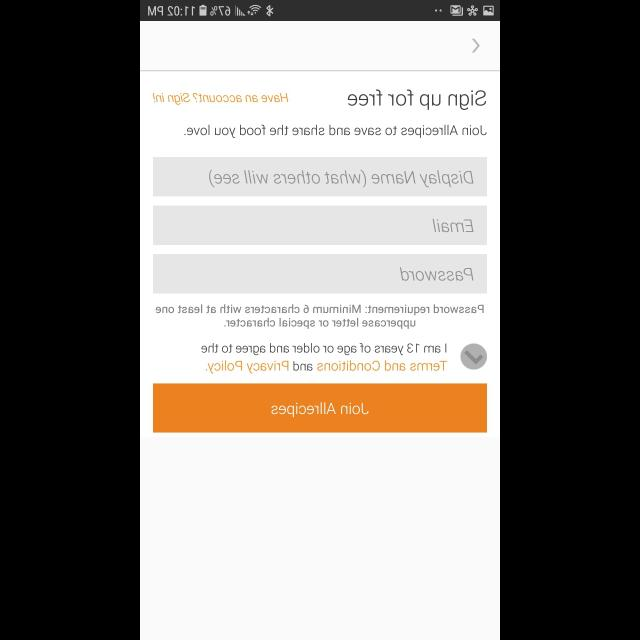checkbox: (461, 344, 487, 368)
icon: (471, 39, 479, 53)
input: (154, 254, 486, 294), (154, 207, 486, 246), (154, 158, 486, 196)
text: (156, 304, 484, 330), (201, 342, 447, 373), (208, 168, 474, 188), (184, 124, 486, 138), (346, 90, 486, 110), (152, 92, 288, 106), (399, 267, 473, 281), (432, 219, 472, 233)
textbutton: (153, 383, 487, 432)
uppertaskbar: (140, 1, 500, 22)
